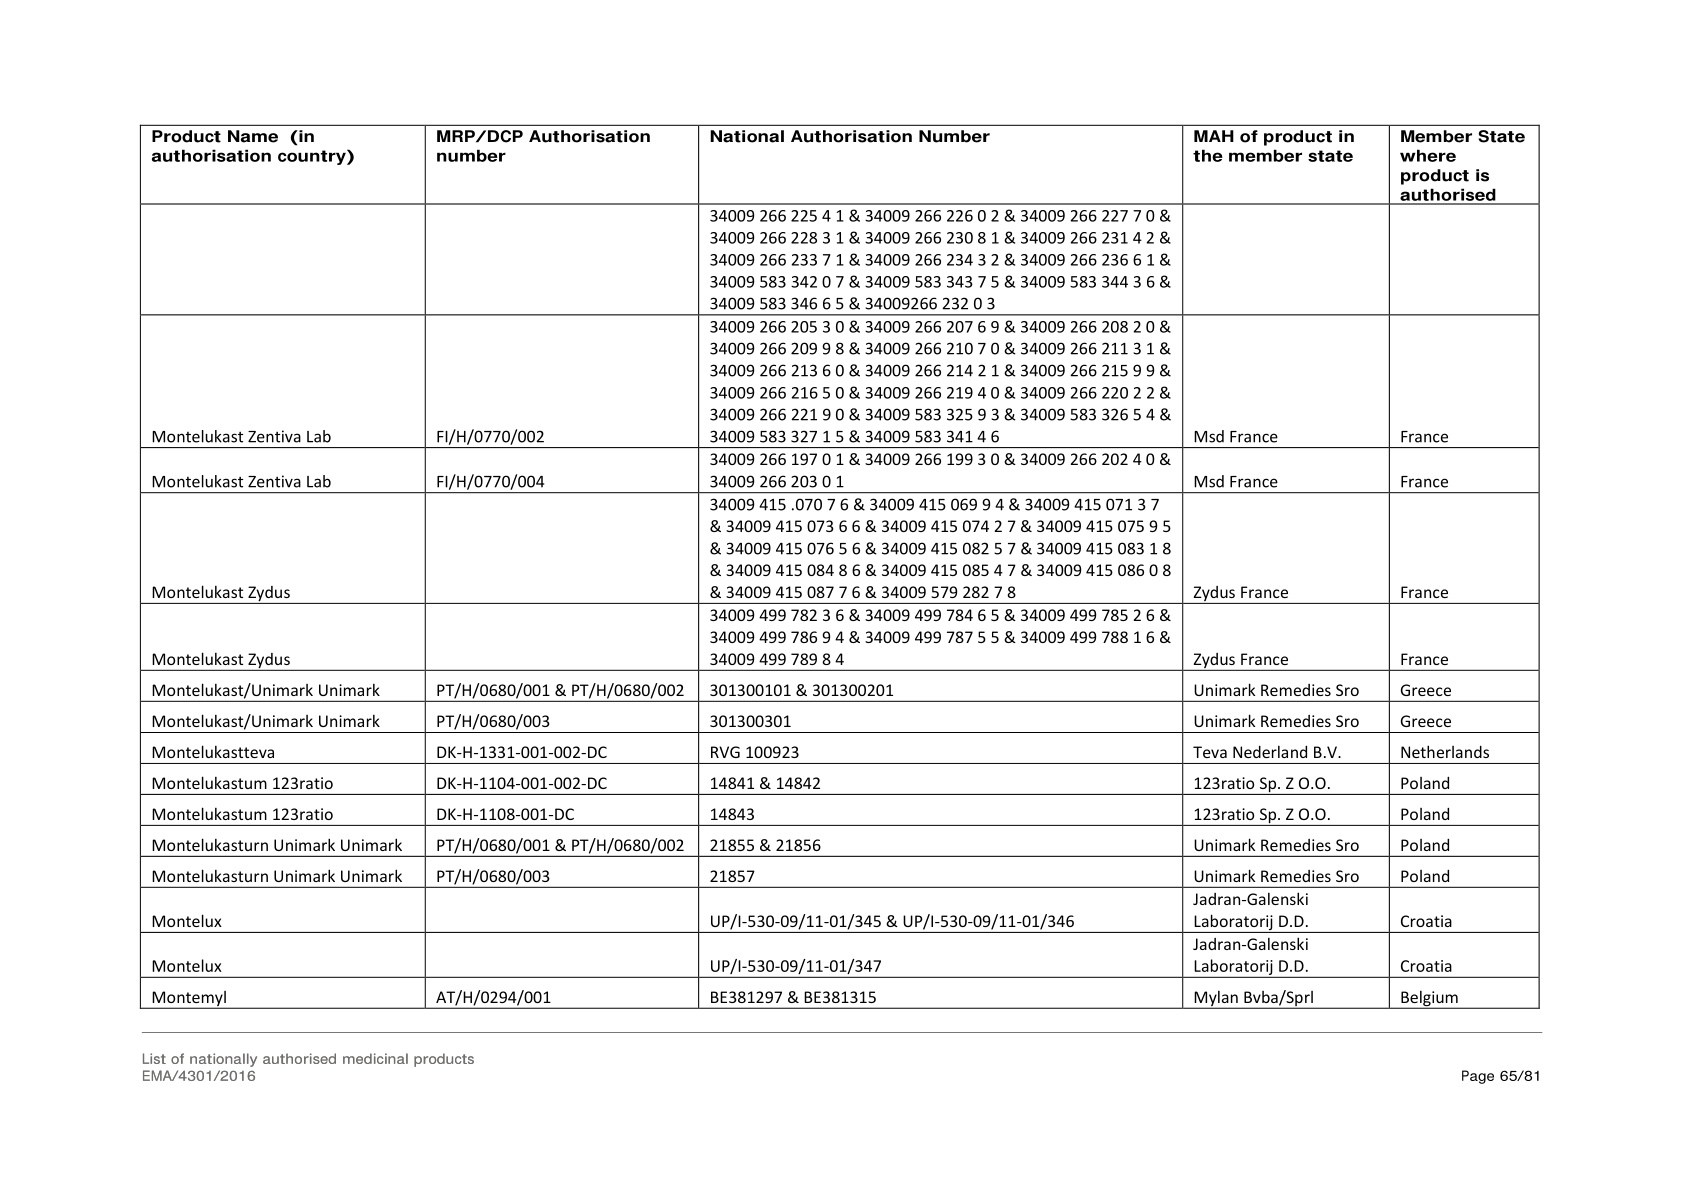full_lined: (139, 122, 1541, 1011)
